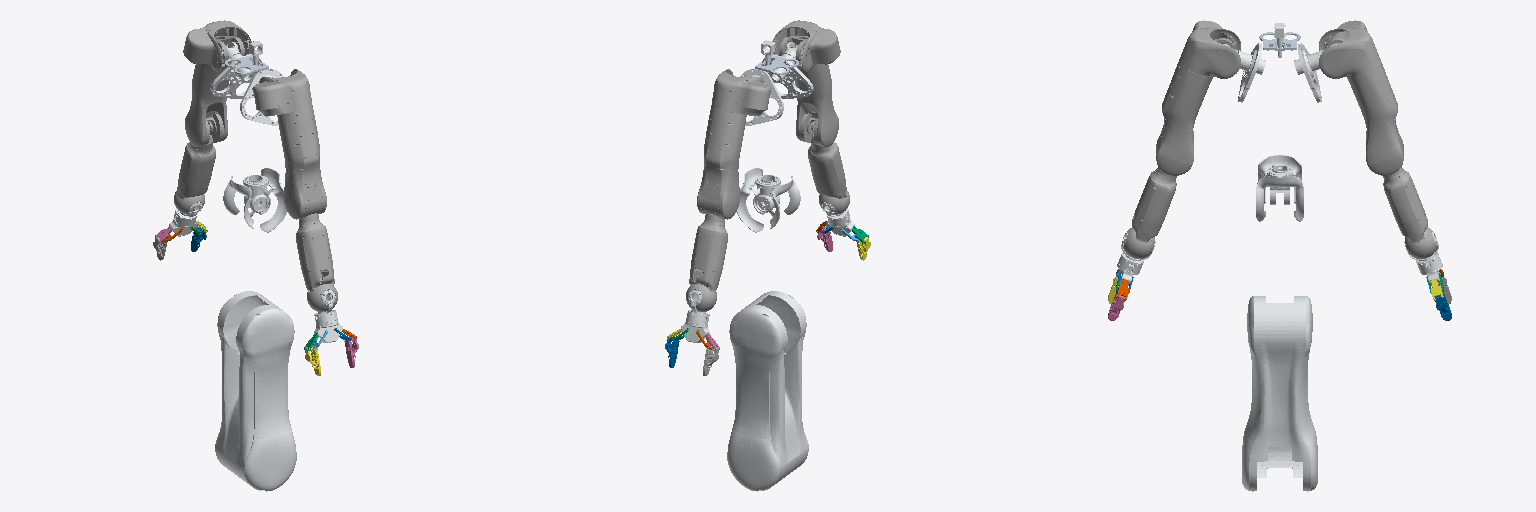
--- Facts derived from the render (not from the file) ---
Views: 3 orthographic renders of the robot side by side, from view 1: azimuth 30°, elevation 25°; view 2: azimuth 150°, elevation 25°; view 3: azimuth 270°, elevation 25°.
Robot: astribot_whole_body — 39 links, 38 joints (32 revolute, 6 fixed); root link astribot_torso_base; default pose: every joint at zero.
Links seen in each view (by area): view 1: astribot_torso_link_1, astribot_arm_right_link_3, astribot_arm_right_link_5, astribot_arm_left_link_3, astribot_torso_link_3, astribot_arm_left_link_2, astribot_arm_right_link_2, astribot_arm_left_link_5, astribot_arm_right_base_link, astribot_arm_left_base_link, astribot_gripper_right_base; view 2: astribot_torso_link_1, astribot_arm_left_link_3, astribot_arm_left_link_5, astribot_arm_right_link_3, astribot_torso_link_3, astribot_arm_right_link_2, astribot_arm_left_link_2, astribot_arm_right_link_5, astribot_arm_left_base_link, astribot_arm_right_base_link, astribot_gripper_left_base; view 3: astribot_torso_link_1, astribot_arm_left_link_3, astribot_arm_right_link_3, astribot_arm_left_link_2, astribot_arm_right_link_2, astribot_arm_left_link_5, astribot_arm_right_link_5, astribot_torso_link_3, astribot_arm_left_base_link, astribot_arm_right_base_link.
Boxes of the visible links, bbox=[...] form: astribot_torso_link_1: bbox=[215, 291, 296, 491]; astribot_arm_right_link_3: bbox=[277, 107, 326, 219]; astribot_arm_right_link_5: bbox=[296, 219, 337, 310]; astribot_arm_left_link_3: bbox=[185, 64, 229, 146]; astribot_torso_link_3: bbox=[223, 168, 286, 232]; astribot_arm_left_link_2: bbox=[183, 20, 251, 71]; astribot_arm_right_link_2: bbox=[253, 69, 312, 115]; astribot_arm_left_link_5: bbox=[174, 142, 215, 213]; astribot_arm_right_base_link: bbox=[240, 69, 283, 125]; astribot_arm_left_base_link: bbox=[210, 54, 261, 98]; astribot_gripper_right_base: bbox=[314, 310, 342, 342]; astribot_torso_link_1: bbox=[727, 291, 808, 491]; astribot_arm_left_link_3: bbox=[697, 107, 746, 219]; astribot_arm_left_link_5: bbox=[686, 219, 727, 310]; astribot_arm_right_link_3: bbox=[794, 64, 838, 146]; astribot_torso_link_3: bbox=[737, 168, 800, 232]; astribot_arm_right_link_2: bbox=[772, 20, 840, 71]; astribot_arm_left_link_2: bbox=[711, 69, 770, 115]; astribot_arm_right_link_5: bbox=[808, 142, 849, 213]; astribot_arm_left_base_link: bbox=[740, 69, 783, 125]; astribot_arm_right_base_link: bbox=[762, 54, 813, 98]; astribot_gripper_left_base: bbox=[681, 310, 709, 342]; astribot_torso_link_1: bbox=[1242, 296, 1317, 491]; astribot_arm_left_link_3: bbox=[1346, 60, 1403, 175]; astribot_arm_right_link_3: bbox=[1156, 60, 1213, 175]; astribot_arm_left_link_2: bbox=[1319, 20, 1380, 78]; astribot_arm_right_link_2: bbox=[1179, 20, 1240, 78]; astribot_arm_left_link_5: bbox=[1383, 169, 1434, 258]; astribot_arm_right_link_5: bbox=[1125, 169, 1176, 258]; astribot_torso_link_3: bbox=[1256, 155, 1303, 221]; astribot_arm_left_base_link: bbox=[1298, 43, 1321, 102]; astribot_arm_right_base_link: bbox=[1238, 43, 1261, 102].
Bounding box of the posed robot: 0.1943 × 0.8993 × 1.34 m (x, y, z).
Meshes: 25 distinct files referenced, 34 mesh visuals loaded (21 binary STL); not drawn: 4 (reference not matched to a file when rendering).

robot.urdf — astribot_whole_body:
<?xml version="1.0" ?>
<!-- =================================================================================== -->
<!-- |    This document was autogenerated by xacro from astribot_s1_whole_body_without_wheel.xacro | -->
<!-- |    EDITING THIS FILE BY HAND IS NOT RECOMMENDED                                 | -->
<!-- =================================================================================== -->
<!-- run: xacro astribot_s1_whole_body.xacro -o astribot_s1_whole_body.urdf to generate the following .urdf file -->
<robot name="astribot_whole_body">
  <link name="astribot_torso_base">
    <inertial>
      <origin rpy="0 0 0" xyz="-0.062784 0.007017 0.035375"/>
      <mass value="39.24781"/>
      <inertia ixx="1.071997" ixy="0.015889" ixz="-0.058447" iyy="1.218431" iyz="-0.002015" izz="1.489411"/>
    </inertial>
    <visual>
      <origin rpy="0 0 0" xyz="0 0 0"/>
      <geometry>
        <mesh filename="meshes/s1_torso/astribot_torso_base_link.STL"/>
      </geometry>
      <material name="">
        <color rgba="0.79216 0.81961 0.93333 1"/>
      </material>
    </visual>
    <collision>
      <origin rpy="0 0 0" xyz="0 0 -0.05"/>
      <geometry>
        <cylinder length="0.1" radius="0.3"/>
      </geometry>
    </collision>
  </link>
  <link name="astribot_torso_link_1">
    <inertial>
      <origin rpy="0 0 0" xyz="-0.15249 0.00021066 -0.0033476"/>
      <mass value="7.3766"/>
      <inertia ixx="0.028834" ixy="-0.0052759" ixz="0.00010767" iyy="0.1483" iyz="1.1652E-05" izz="0.14268"/>
    </inertial>
    <visual>
      <origin rpy="0 0 0" xyz="0 0 0"/>
      <geometry>
        <mesh filename="meshes/s1_torso/astribot_torso_link_1.STL"/>
      </geometry>
      <material name="">
        <color rgba="0.89804 0.91765 0.92941 1"/>
      </material>
    </visual>
    <collision>
      <origin rpy="0 1.57 0" xyz="-0.15 0 0"/>
      <geometry>
        <cylinder length="0.3" radius="0.1"/>
      </geometry>
    </collision>
  </link>
  <joint name="astribot_torso_joint_1" type="revolute">
    <origin rpy="-1.5708 1.5708 0" xyz="0 0 0.12"/>
    <parent link="astribot_torso_base"/>
    <child link="astribot_torso_link_1"/>
    <axis xyz="0 0 1"/>
    <limit effort="100" lower="-0.04" upper="1.3" velocity="1.8"/>
  </joint>
  <link name="astribot_torso_link_2">
    <inertial>
      <origin rpy="0 0 0" xyz="-0.22214 0.028873 0.00059024"/>
      <mass value="5.6183"/>
      <inertia ixx="0.0082545" ixy="0.0011523" ixz="0.00035614" iyy="0.012677" iyz="-5.8287E-05" izz="0.017512"/>
    </inertial>
    <visual>
      <origin rpy="0 0 0" xyz="0 0 0"/>
      <geometry>
        <mesh filename="meshes/s1_torso/astribot_torso_link_2.STL"/>
      </geometry>
      <material name="">
        <color rgba="0.89804 0.91765 0.92941 1"/>
      </material>
    </visual>
    <collision>
      <origin rpy="0 1.57 -0.25" xyz="-0.15 0.03 0"/>
      <geometry>
        <cylinder length="0.3" radius="0.1"/>
      </geometry>
    </collision>
  </link>
  <joint name="astribot_torso_joint_2" type="revolute">
    <origin rpy="0 0 0" xyz="-0.38 0 0"/>
    <parent link="astribot_torso_link_1"/>
    <child link="astribot_torso_link_2"/>
    <axis xyz="0 0 1"/>
    <limit effort="100" lower="-2.3" upper="0.06" velocity="1.8"/>
  </joint>
  <link name="astribot_torso_link_3">
    <inertial>
      <origin rpy="0 0 0" xyz="-0.017519 0.00059523 0.00025821"/>
      <mass value="0.49013"/>
      <inertia ixx="0.00022212" ixy="-2.6767E-07" ixz="4.3987E-07" iyy="0.00036522" iyz="3.8834E-07" izz="0.00038039"/>
    </inertial>
    <visual>
      <origin rpy="0 0 0" xyz="0 0 0"/>
      <geometry>
        <mesh filename="meshes/s1_torso/astribot_torso_link_3.STL"/>
      </geometry>
      <material name="">
        <color rgba="0.89804 0.91765 0.92941 1"/>
      </material>
    </visual>
    <collision>
      <origin rpy="0 1.57 0" xyz="-0.18 0.01 0"/>
      <geometry>
        <cylinder length="0.35" radius="0.09"/>
      </geometry>
    </collision>
  </link>
  <joint name="astribot_torso_joint_3" type="revolute">
    <origin rpy="0 0 0" xyz="-0.390 0 0"/>
    <parent link="astribot_torso_link_2"/>
    <child link="astribot_torso_link_3"/>
    <axis xyz="0 0 1"/>
    <limit effort="100" lower="-0.4" upper="2.3" velocity="1.8"/>
  </joint>
  <link name="astribot_torso_link_4">
    <inertial>
      <origin rpy="0 0 0" xyz="0.00476227191516749 -4.56966810241128E-05 0.242912573510671"/>
      <mass value="3.55695635704638"/>
      <inertia ixx="0.0165768322563514" ixy="-9.94098112646385E-06" ixz="-0.000100011483384926" iyy="0.014904355097835" iyz="9.86752047032885E-07" izz="0.0110629318711333"/>
    </inertial>
    <visual>
      <origin rpy="0 0 0" xyz="0 0 0"/>
      <geometry>
        <mesh filename="meshes/s1_torso/astribot_torso_link_4.STL"/>
      </geometry>
      <material name="">
        <color rgba="0.898039215686275 0.917647058823529 0.929411764705882 1"/>
      </material>
    </visual>
  </link>
  <joint name="astribot_torso_joint_4" type="revolute">
    <origin rpy="1.5708 0 -1.5708" xyz="0 0 0"/>
    <parent link="astribot_torso_link_3"/>
    <child link="astribot_torso_link_4"/>
    <axis xyz="0 0 1"/>
    <limit effort="100" lower="-1.2" upper="1.2" velocity="1.8"/>
  </joint>

  <link name="astribot_torso_end_effector">
    <inertial>
      <origin rpy="0 0 0" xyz="0 0 0"/>
      <mass value="0"/>
      <inertia ixx="0" ixy="0" ixz="0" iyy="0" iyz="0" izz="0"/>
    </inertial>
  </link>
  <joint name="astribot_torso_end_effector_fixed_joint" type="fixed">
    <origin rpy="0.0 0.0 0.0" xyz="0 0 0.34475"/>
    <parent link="astribot_torso_link_4"/>
    <child link="astribot_torso_end_effector"/>
  </joint>
  
  <link name="astribot_head_base_link">
    <inertial>
      <origin rpy="0 0 0" xyz="-0.02816247 -0.00023176 -0.05211965"/>
      <mass value="0.39541440"/>
      <inertia ixx="0.00036025" ixy="-0.00003505" ixz="0.00004865" iyy="0.00049377" iyz="0.00000243" izz="0.00074441"/>
    </inertial>
    <visual>
      <origin rpy="0 0 0" xyz="0 0 0"/>
      <geometry>
        <mesh filename="meshes/s1_head/astribot_head_base_link.STL"/>
      </geometry>
      <material name="">
        <color rgba="0.807843137254902 0.843137254901961 0.905882352941176 1"/>
      </material>
    </visual>
  </link>
  <link name="astribot_head_link_1">
    <inertial>
      <origin rpy="0 0 0" xyz="0.00003191 -0.00038566 -0.02579910"/>
      <mass value="0.13910581"/>
      <inertia ixx="0.00004567" ixy="0.00000003" ixz="0.00000004" iyy="0.00004789" iyz="-0.00000091" izz="0.00003779"/>
    </inertial>
    <visual>
      <origin rpy="0 0 0" xyz="0 0 0"/>
      <geometry>
        <mesh filename="meshes/s1_head/astribot_head_link_1.STL"/>
      </geometry>
      <material name="">
        <color rgba="0.898039215686275 0.917647058823529 0.929411764705882 1"/>
      </material>
    </visual>
  </link>
  <joint name="astribot_head_joint_1" type="revolute">
    <origin rpy="0 0 0" xyz="0 0 0"/>
    <parent link="astribot_head_base_link"/>
    <child link="astribot_head_link_1"/>
    <axis xyz="0 0 1"/>
    <limit effort="100" lower="-1.57" upper="1.57" velocity="4.0"/>
  </joint>
  <link name="astribot_head_link_2">
    <inertial>
      <origin rpy="0 0 0" xyz="0.00705824 -0.14472601 -0.00061724"/>
      <mass value="0.97012447"/>
      <inertia ixx="0.00555660" ixy="-0.00041600" ixz="-0.00000036" iyy="0.00151908" iyz="-0.00012043" izz="0.00544493"/>
    </inertial>
    <visual>
      <origin rpy="0 0 0" xyz="0 0 0"/>
      <geometry>
        <mesh filename="meshes/s1_head/astribot_head_link_2.STL"/>
      </geometry>
      <material name="">
        <color rgba="0.807843137254902 0.843137254901961 0.905882352941176 1"/>
      </material>
    </visual>
    <collision>
      <origin rpy="0 0 0" xyz="0 -0.15 0"/>
      <geometry>
        <sphere radius="0.11"/>
      </geometry>
    </collision>
  </link>
  <joint name="astribot_head_joint_2" type="revolute">
    <origin rpy="-1.5708 0 0" xyz="0 0 0"/>
    <parent link="astribot_head_link_1"/>
    <child link="astribot_head_link_2"/>
    <axis xyz="0 0 1"/>
    <limit effort="100" lower="-1.22" upper="1.22" velocity="4.0"/>
  </joint>


  <link name="astribot_arm_left_base_link">
    <inertial>
      <origin rpy="0 0 0" xyz="-0.04309067 -0.01849796 -0.01384838"/>
      <mass value="2.22887320"/>
      <inertia ixx="0.00386389" ixy="-0.00050396" ixz="0.00025566" iyy="0.00306042" iyz="0.00019224" izz="0.00570294"/>
    </inertial>
    <visual>
      <origin rpy="0 0 0" xyz="0 0 0"/>
      <geometry>
        <mesh filename="meshes/s1_arm/astribot_arm_left_base_link.STL"/>
      </geometry>
      <material name="">
        <color rgba="0.898039215686275 0.917647058823529 0.929411764705882 1"/>
      </material>
    </visual>
  </link>
  <link name="astribot_arm_left_link_1">
    <inertial>
      <origin rpy="0 0 0" xyz="0.00012026 0.00047499 -0.05682561"/>
      <mass value="0.59936716"/>
      <inertia ixx="0.00064791" ixy="0.00000149" ixz="0.00000133" iyy="0.00065264" iyz="0.00000160" izz="0.00050137"/>
    </inertial>
    <visual>
      <origin rpy="0 0 0" xyz="0 0 0"/>
      <geometry>
        <mesh filename="meshes/s1_arm/astribot_arm_link_1.STL"/>
      </geometry>
      <material name="">
        <color rgba="0.898039215686275 0.917647058823529 0.929411764705882 1"/>
      </material>
    </visual>
  </link>
  <joint name="astribot_arm_left_joint_1" type="revolute">
    <origin rpy="0 0 0" xyz="0 0 0.091"/>
    <parent link="astribot_arm_left_base_link"/>
    <child link="astribot_arm_left_link_1"/>
    <axis xyz="0 0 1"/>
    <limit effort="265" lower="-3.1" upper="3.1" velocity="8.4"/>
  </joint>
  <link name="astribot_arm_left_link_2">
    <inertial>
      <origin rpy="0 0 0" xyz="-0.00396228 0.03490708 0.04270156"/>
      <mass value="1.43694657"/>
      <inertia ixx="0.00360751" ixy="-0.00009193" ixz="0.00007764" iyy="0.00283747" iyz="0.00054945" izz="0.00172927"/>
    </inertial>
    <visual>
      <origin rpy="0 0 0" xyz="0 0 0"/>
      <geometry>
        <mesh filename="meshes/s1_arm/astribot_arm_left_link_2.STL"/>
      </geometry>
      <material name="">
        <color rgba="0.698039215686274 0.698039215686274 0.698039215686274 1"/>
      </material>
    </visual>
  </link>
  <joint name="astribot_arm_left_joint_2" type="revolute">
    <origin rpy="1.5708 0 0" xyz="0 0 0"/>
    <parent link="astribot_arm_left_link_1"/>
    <child link="astribot_arm_left_link_2"/>
    <axis xyz="0 0 1"/>
    <limit effort="265" lower="-1.53" upper="0.46" velocity="8.4"/>
  </joint>
  <link name="astribot_arm_left_link_3">
    <inertial>
      <origin rpy="0 0 0" xyz="0.00531263 0.00020707 0.16136713"/>
      <mass value="2.0926399"/>
      <inertia ixx="0.01752179" ixy="2.336e-05" ixz="0.00144018" iyy="0.01784671" iyz="-3.027e-05" izz="0.0021843"/>
    </inertial>
    <visual>
      <origin rpy="0 0 0" xyz="0 0 0"/>
      <geometry>
        <mesh filename="meshes/s1_arm/astribot_arm_link_3.STL"/>
      </geometry>
      <material name="">
        <color rgba="0.698039215686274 0.698039215686274 0.698039215686274 1"/>
      </material>
    </visual>
    <collision>
      <origin rpy="0 0 0" xyz="0 0 0.15"/>
      <geometry>
        <cylinder length="0.18" radius="0.05"/>
      </geometry>
    </collision>
  </link>
  <joint name="astribot_arm_left_joint_3" type="revolute">
    <origin rpy="1.5708 0 -1.5708" xyz="0 0.05 0"/>
    <parent link="astribot_arm_left_link_2"/>
    <child link="astribot_arm_left_link_3"/>
    <axis xyz="0 0 1"/>
    <limit effort="132" lower="-3.1" upper="3.1" velocity="8.4"/>
  </joint>
  <link name="astribot_arm_left_link_4">
    <inertial>
      <origin rpy="0 0 0" xyz="0.00017294 -0.01269315 0.00196140"/>
      <mass value="0.36587933"/>
      <inertia ixx="0.00047693" ixy="0.00000635" ixz=" 0.00000135" iyy="0.00036801" iyz="0.00000705" izz="0.00050082"/>
    </inertial>
    <visual>
      <origin rpy="0 0 0" xyz="0 0 0"/>
      <geometry>
        <mesh filename="meshes/s1_arm/astribot_arm_link_4.STL"/>
      </geometry>
      <material name="">
        <color rgba="0.698039215686274 0.698039215686274 0.698039215686274 1"/>
      </material>
    </visual>
    <collision>
      <origin rpy="0 0 0" xyz="0 0 0"/>
      <geometry>
        <sphere radius="0.06"/>
      </geometry>
    </collision>
  </link>
  <joint name="astribot_arm_left_joint_4" type="revolute">
    <origin rpy="-1.5708 0 0" xyz="0.03 0 0.309"/>
    <parent link="astribot_arm_left_link_3"/>
    <child link="astribot_arm_left_link_4"/>
    <axis xyz="0 0 1"/>
    <limit effort="142" lower="-0.06" upper="2.61" velocity="15"/>
  </joint>
  <link name="astribot_arm_left_link_5">
    <inertial>
      <origin rpy="0 0 0" xyz="-0.00032037 -0.00015185 0.15370447"/>
      <mass value="1.24085064"/>
      <inertia ixx="0.00454092" ixy="1.58e-06" ixz="-5.91e-06" iyy="0.00438922" iyz="-4.927e-05" izz="0.00079442"/>
    </inertial>
    <visual>
      <origin rpy="0 0 0" xyz="0 0 0"/>
      <geometry>
        <mesh filename="meshes/s1_arm/astribot_arm_link_5.STL"/>
      </geometry>
      <material name="">
        <color rgba="0.698039215686274 0.698039215686274 0.698039215686274 1"/>
      </material>
    </visual>
    <collision>
      <origin rpy="0 0 0" xyz="0 0 0.14"/>
      <geometry>
        <cylinder length="0.14" radius="0.05"/>
      </geometry>
    </collision>
  </link>
  <joint name="astribot_arm_left_joint_5" type="revolute">
    <origin rpy="1.5708 0 0" xyz="0 0 0"/>
    <parent link="astribot_arm_left_link_4"/>
    <child link="astribot_arm_left_link_5"/>
    <axis xyz="0 0 1"/>
    <limit effort="71" lower="-2.56" upper="2.56" velocity="20"/>
  </joint>
  <link name="astribot_arm_left_link_6">
    <inertial>
      <origin rpy="0 0 0" xyz="-0.00010311 0.00001218 0.00013181"/>
      <mass value="0.22465307"/>
      <inertia ixx="0.00016474" ixy="0.00000007" ixz="0.00000025" iyy="0.00015608" iyz="0.00000018" izz="0.00008555"/>
    </inertial>
    <visual>
      <origin rpy="0 0 0" xyz="0 0 0"/>
      <geometry>
        <mesh filename="meshes/s1_arm/astribot_arm_link_6.STL"/>
      </geometry>
      <material name="">
        <color rgba="0.698039215686274 0.698039215686274 0.698039215686274 1"/>
      </material>
    </visual>
  </link>
  <joint name="astribot_arm_left_joint_6" type="revolute">
    <origin rpy="-1.5708 0 0" xyz="0 0 0.277"/>
    <parent link="astribot_arm_left_link_5"/>
    <child link="astribot_arm_left_link_6"/>
    <axis xyz="0 0 1"/>
    <limit effort="20" lower="-0.76" upper="0.76" velocity="16.8"/>
  </joint>
  <link name="astribot_arm_left_link_7">
    <inertial>
      <origin rpy="0 0 0" xyz="4.333e-05 -0.00723447 -0.00362428"/>
      <mass value="0.12772019"/>
      <inertia ixx="0.00013672" ixy="1.6e-07" ixz="-2.4e-07" iyy="0.00010783" iyz="-3.35e-06" izz="5.858e-05"/>
    </inertial>
    <visual>
      <origin rpy="0 0 0" xyz="0 0 0"/>
      <geometry>
        <mesh filename="meshes/s1_arm/astribot_arm_link_7.STL"/>
      </geometry>
      <material name="">
        <color rgba="0.898039215686275 0.917647058823529 0.929411764705882 1"/>
      </material>
    </visual>
    <collision>
      <origin rpy="0 0 0" xyz="0.006 0 0"/>
      <geometry>
        <sphere radius="0.05"/>
      </geometry>
    </collision>
  </link>
  <joint name="astribot_arm_left_joint_7" type="revolute">
    <origin rpy="0 1.5708 0" xyz="0 0 0"/>
    <parent link="astribot_arm_left_link_6"/>
    <child link="astribot_arm_left_link_7"/>
    <axis xyz="0 0 1"/>
    <limit effort="20" lower="-1.53" upper="1.53" velocity="16.8"/>
  </joint>



   <!-- 创建夹爪基座 -->
    <link name="astribot_gripper_left_base">
        <inertial>
            <origin xyz="0.000286114278273852 5.46143913165315E-05 0.0313070801272036" rpy="0 0 0" />
            <mass value="0.187915151353017" />
            <inertia
              ixx="7.7083129306073E-05"
              ixy="-5.2914269679694E-08"
              ixz="-7.97668331424419E-07"
              iyy="9.20833968358638E-05"
              iyz="2.05531866691208E-06"
              izz="0.000110550450454867" />
        </inertial>
        <visual>
            <origin xyz="0 0 0" rpy="0 0 0"/>
            <geometry>
                <mesh filename="meshes/s1_gripper/astribot_gripper_base_link.STL"/>
            </geometry>
            <material name="">
                <color rgba="0.898039215686275 0.917647058823529 0.929411764705882 1"/>
            </material>
        </visual>
    </link>
    <joint name="astribot_gripper_left_arm_joint" type="fixed">
        <origin xyz="0 -0.045 0" rpy="1.5708 0 0"/>
        <parent link="astribot_arm_left_link_7"/>
        <child link="astribot_gripper_left_base"/>
    </joint>

    <!-- 创建夹爪左侧 L1 -->
    <link name="astribot_gripper_left_Link_L1">
        <inertial>
            <origin xyz="0.0238640864176069 9.47687805681264E-11 0.0229075443586857" rpy="0 0 0" />
            <mass value="0.0132773347208514" />
            <inertia
              ixx="4.28423784706423E-06"
              ixy="-3.1809828478112E-14"
              ixz="-1.80523452558963E-06"
              iyy="3.7385709458377E-06"
              iyz="-1.72714143575754E-14"
              izz="4.66371355874453E-06" />
        </inertial>
        <visual>
            <origin xyz="0 0 0" rpy="0 0 0"/>
            <geometry>
                <mesh filename="meshes/s1_gripper/astribot_gripper_L1_Link.STL"/>
            </geometry>
        </visual>
    </link>
    <joint name="astribot_gripper_left_joint_L1" type="revolute">
        <origin xyz="0.0145 0 0.0510999999999999" rpy="0 0 0" />
        <parent link="astribot_gripper_left_base"/>
        <child link="astribot_gripper_left_Link_L1"/>
        <axis xyz="0 1 0" />
        <limit lower="-1.57" upper="1.57" effort="1" velocity="1" />
        <disable_collisions>true</disable_collisions>
    </joint>

    <!-- 创建夹爪左侧 L2 -->
    <link name="astribot_gripper_left_Link_L2">
        <inertial>
            <origin xyz="0.0140847588556024 1.38103934445237E-10 0.0136360450679544" rpy="0 0 0" />
            <mass value="0.0225788543528282" />
            <inertia
              ixx="4.05677771144473E-06"
              ixy="9.09979590001103E-14"
              ixz="-3.87016503842647E-06"
              iyy="9.27580355823765E-06"
              iyz="2.24851503246122E-15"
              izz="7.45268797104849E-06" />
        </inertial>
        <visual>
            <origin xyz="0 0 0" rpy="0 0 0"/>
            <geometry>
                <mesh filename="meshes/s1_gripper/astribot_gripper_L2_Link.STL"/>
            </geometry>
        </visual>
    </link>
    <joint name="astribot_gripper_left_joint_L2" type="revolute">
        <origin xyz="0.0325 0 0.0510999999999999" rpy="0 0 0" />
        <parent link="astribot_gripper_left_base"/>
        <child link="astribot_gripper_left_Link_L2"/>
        <axis xyz="0 1 0"/>
        <limit lower="-1.57" upper="1.57" effort="1" velocity="1" />
        <disable_collisions>true</disable_collisions>
    </joint>

    <!-- 创建夹爪左侧 L11 -->
    <link name="astribot_gripper_left_Link_L11">
        <inertial>
            <origin xyz="0.00580213800883548 -8.25165165519234E-05 0.0308700387872591" rpy="0 0 0" />
            <mass value="0.048314774841657" />
            <inertia
              ixx="1.32981890600081E-05"
              ixy="-5.57022585371537E-10"
              ixz="7.4802436798051E-07"
              iyy="1.22071199015097E-05"
              iyz="-5.96543860568114E-08"
              izz="3.57131660356933E-06" />
    </inertial>
        <visual>
            <origin xyz="0 0 0" rpy="0 0 0"/>
            <geometry>
                <mesh filename="meshes/s1_gripper/astribot_gripper_L11_Link.STL"/>
            </geometry>
        </visual>
        <collision>
            <origin xyz="0 0 0" rpy="0 0 0"/>
            <geometry>
                <mesh filename="meshes/s1_gripper/astribot_gripper_L11_Link.STL"/>
            </geometry>
        </collision>
    </link>
    <joint name="astribot_gripper_left_joint_L11" type="revolute">
        <origin xyz="0.0412500000000001 0 0.036379080527138" rpy="0 0 0" />
        <parent link="astribot_gripper_left_Link_L1"/>
        <child link="astribot_gripper_left_Link_L11"/>
        <axis xyz="0 1 0"/>
        <limit effort="1" velocity="1" lower="-1.57" upper="1.57"/>
        <disable_collisions>true</disable_collisions>
    </joint>

    <!-- 创建夹爪右侧 R1 -->
    <link name="astribot_gripper_left_Link_R1">
        <inertial>
            <origin xyz="-0.0238640864176057 -9.47685705791467E-11 0.0229075443586915" rpy="0 0 0" />
            <mass value="0.0132773347208514" />
            <inertia
              ixx="4.28423784706424E-06"
              ixy="-3.18098256836165E-14"
              ixz="1.80523452558963E-06"
              iyy="3.7385709458377E-06"
              iyz="1.727141962837E-14"
              izz="4.66371355874451E-06" />
        </inertial>
        <visual>
            <origin xyz="0 0 0" rpy="0 0 0"/>
            <geometry>
                <mesh filename="meshes/s1_gripper/astribot_gripper_R1_Link.STL"/>
            </geometry>
        </visual>
    </link>
    <joint name="astribot_gripper_left_joint_R1" type="revolute">
        <origin xyz="-0.0144999999999999 0 0.0510999999999939" rpy="0 0 0" />
        <parent link="astribot_gripper_left_base"/>
        <child link="astribot_gripper_left_Link_R1"/>
        <axis xyz="0 1 0" />
        <limit lower="-1.57" upper="1.57" effort="1" velocity="1" />
        <disable_collisions>true</disable_collisions>
    </joint>

    <!-- 创建夹爪右侧 R2 -->
    <link name="astribot_gripper_left_Link_R2">
        <inertial>
            <origin xyz="-0.0140847588556023 -1.38096956088557E-10 0.0136360450679544" rpy="0 0 0" />
            <mass value="0.0225788543528282" />
            <inertia
              ixx="4.05677771144474E-06"
              ixy="9.09979616664103E-14"
              ixz="3.87016503842647E-06"
              iyy="9.27580355823765E-06"
              iyz="-2.24851632164595E-15"
              izz="7.45268797104847E-06" />
            
        </inertial>
        <visual>
            <origin xyz="0 0 0" rpy="0 0 0"/>
            <geometry>
                <mesh filename="meshes/s1_gripper/astribot_gripper_R2_Link.STL"/>
            </geometry>
        </visual>
    </link>
    <joint name="astribot_gripper_left_joint_R2" type="revolute">
        <origin xyz="-0.0325 0 0.0510999999999999" rpy="0 0 0" />
        <parent link="astribot_gripper_left_base"/>
        <child link="astribot_gripper_left_Link_R2"/>
        <axis xyz="0 1 0" />
        <limit lower="-1.57" upper="1.57" effort="1" velocity="1" />
        <disable_collisions>true</disable_collisions>
    </joint>

    <!-- 创建夹爪右侧 R11 -->
    <link name="astribot_gripper_left_Link_R11">
        <inertial>
            <origin xyz="-0.00580213801042903 8.25165349425033E-05 0.0308700387923378" rpy="0 0 0" />
            <mass value="0.048314774834573" />
            <inertia
              ixx="1.32981890422821E-05"
              ixy="-5.57024612407707E-10"
              ixz="-7.48024369000206E-07"
              iyy="1.22071198991499E-05"
              iyz="5.96543919268235E-08"
              izz="3.57131658810875E-06" />

        </inertial>
        <visual>
            <origin xyz="0 0 0" rpy="0 0 0"/>
            <geometry>
                <mesh filename="meshes/s1_gripper/astribot_gripper_R11_Link.STL"/>
            </geometry>
        </visual>
        <collision>
            <origin xyz="0 0 0" rpy="0 0 0"/>
            <geometry>
                <mesh filename="meshes/s1_gripper/astribot_gripper_R11_Link.STL"/>
            </geometry>
        </collision>
    </link>
    <joint name="astribot_gripper_left_joint_R11" type="revolute">
        <origin xyz="-0.0412499999999999 0 0.0363790805271382" rpy="0 0 0" />
        <parent link="astribot_gripper_left_Link_R1" />
        <child link="astribot_gripper_left_Link_R11" />
        <axis xyz="0 1 0" /> 
        <limit lower="-1.57" upper="1.57" effort="1" velocity="1" />
        <!-- <mimic joint="astribot_gripper_left_joint_L11" multiplier="-1.0" offset="0.0" /> -->
        <disable_collisions>true</disable_collisions>
    </joint>





  <link name="astribot_arm_right_base_link">
    <inertial>
      <origin rpy="0 0 0" xyz="-0.04450932 0.01988693 0.00162589"/>
      <mass value="2.22887320"/>
      <inertia ixx="0.00396811" ixy="0.00041290" ixz="-0.00033387" iyy="0.00304615" iyz="-0.00021572" izz="0.00574641"/>
    </inertial>
    <visual>
      <origin rpy="0 0 0" xyz="0 0 0"/>
      <geometry>
        <mesh filename="meshes/s1_arm/astribot_arm_right_base_link.STL"/>
      </geometry>
      <material name="">
        <color rgba="0.898039215686275 0.917647058823529 0.929411764705882 1"/>
      </material>
    </visual>
  </link>
  <link name="astribot_arm_right_link_1">
    <inertial>
      <origin rpy="0 0 0" xyz="0.00012026 0.00047499 -0.05682561"/>
      <mass value="0.59936716"/>
      <inertia ixx="0.00064791" ixy="0.00000149" ixz="0.00000133" iyy="0.00065264" iyz="0.00000160" izz="0.00050137"/>
    </inertial>
    <visual>
      <origin rpy="0 0 0" xyz="0 0 0"/>
      <geometry>
        <mesh filename="meshes/s1_arm/astribot_arm_link_1.STL"/>
      </geometry>
      <material name="">
        <color rgba="0.898039215686275 0.917647058823529 0.929411764705882 1"/>
      </material>
    </visual>
  </link>
  <joint name="astribot_arm_right_joint_1" type="revolute">
    <origin rpy="0 0 0" xyz="0 0 0.091"/>
    <parent link="astribot_arm_right_base_link"/>
    <child link="astribot_arm_right_link_1"/>
    <axis xyz="0 0 1"/>
    <limit effort="265" lower="-3.1" upper="3.1" velocity="8.4"/>
  </joint>
  <link name="astribot_arm_right_link_2">
    <inertial>
      <origin rpy="0 0 0" xyz="-0.00384709 0.03502105 -0.04050705"/>
      <mass value="1.45811037"/>
      <inertia ixx="0.00394196" ixy="-8.846e-05" ixz="-3.742e-05" iyy="0.00316298" iyz="-0.0007079" izz="0.00177295"/>
    </inertial>
    <visual>
      <origin rpy="0 0 0" xyz="0 0 0"/>
      <geometry>
        <mesh filename="meshes/s1_arm/astribot_arm_right_link_2.STL"/>
      </geometry>
      <material name="">
        <color rgba="0.698039215686274 0.698039215686274 0.698039215686274 1"/>
      </material>
    </visual>
  </link>
  <joint name="astribot_arm_right_joint_2" type="revolute">
    <origin rpy="1.5708 0 0" xyz="0 0 0"/>
    <parent link="astribot_arm_right_link_1"/>
    <child link="astribot_arm_right_link_2"/>
    <axis xyz="0 0 1"/>
    <limit effort="265" lower="-1.53" upper="0.46" velocity="8.4"/>
  </joint>
  <link name="astribot_arm_right_link_3">
    <inertial>
      <origin rpy="0 0 0" xyz="0.00531263 0.00020707 0.16136713"/>
      <mass value="2.0926399"/>
      <inertia ixx="0.01752179" ixy="2.336e-05" ixz="0.00144018" iyy="0.01784671" iyz="-3.027e-05" izz="0.0021843"/>
    </inertial>
    <visual>
      <origin rpy="0 0 0" xyz="0 0 0"/>
      <geometry>
        <mesh filename="meshes/s1_arm/astribot_arm_link_3.STL"/>
      </geometry>
      <material name="">
        <color rgba="0.698039215686274 0.698039215686274 0.698039215686274 1"/>
      </material>
    </visual>
    <collision>
      <origin rpy="0 0 0" xyz="0 0 0.15"/>
      <geometry>
        <cylinder length="0.18" radius="0.05"/>
      </geometry>
    </collision>
  </link>
  <joint name="astribot_arm_right_joint_3" type="revolute">
    <origin rpy="1.5708 0 -1.5708" xyz="0 0.05 0"/>
    <parent link="astribot_arm_right_link_2"/>
    <child link="astribot_arm_right_link_3"/>
    <axis xyz="0 0 1"/>
    <limit effort="132" lower="-3.1" upper="3.1" velocity="8.4"/>
  </joint>
  <link name="astribot_arm_right_link_4">
    <inertial>
      <origin rpy="0 0 0" xyz="0.00017294 -0.01269315 0.00196140"/>
      <mass value="0.36587933"/>
      <inertia ixx="0.00047693" ixy="0.00000635" ixz=" 0.00000135" iyy="0.00036801" iyz="0.00000705" izz="0.00050082"/>
    </inertial>
    <visual>
      <origin rpy="0 0 0" xyz="0 0 0"/>
      <geometry>
        <mesh filename="meshes/s1_arm/astribot_arm_link_4.STL"/>
      </geometry>
      <material name="">
        <color rgba="0.698039215686274 0.698039215686274 0.698039215686274 1"/>
      </material>
    </visual>
    <collision>
      <origin rpy="0 0 0" xyz="0 0 0"/>
      <geometry>
        <sphere radius="0.06"/>
      </geometry>
    </collision>
  </link>
  <joint name="astribot_arm_right_joint_4" type="revolute">
    <origin rpy="-1.5708 0 0" xyz="0.03 0 0.309"/>
    <parent link="astribot_arm_right_link_3"/>
    <child link="astribot_arm_right_link_4"/>
    <axis xyz="0 0 1"/>
    <limit effort="142" lower="-0.06" upper="2.61" velocity="15"/>
  </joint>
  <link name="astribot_arm_right_link_5">
    <inertial>
      <origin rpy="0 0 0" xyz="-0.00032037 -0.00015185 0.15370447"/>
      <mass value="1.24085064"/>
      <inertia ixx="0.00454092" ixy="1.58e-06" ixz="-5.91e-06" iyy="0.00438922" iyz="-4.927e-05" izz="0.00079442"/>
    </inertial>
    <visual>
      <origin rpy="0 0 0" xyz="0 0 0"/>
      <geometry>
        <mesh filename="meshes/s1_arm/astribot_arm_link_5.STL"/>
      </geometry>
      <material name="">
        <color rgba="0.698039215686274 0.698039215686274 0.698039215686274 1"/>
      </material>
    </visual>
    <collision>
      <origin rpy="0 0 0" xyz="0 0 0.14"/>
      <geometry>
        <cylinder length="0.14" radius="0.05"/>
      </geometry>
    </collision>
  </link>
  <joint name="astribot_arm_right_joint_5" type="revolute">
    <origin rpy="1.5708 0 0" xyz="0 0 0"/>
    <parent link="astribot_arm_right_link_4"/>
    <child link="astribot_arm_right_link_5"/>
    <axis xyz="0 0 1"/>
    <limit effort="71" lower="-2.56" upper="2.56" velocity="20"/>
  </joint>
  <link name="astribot_arm_right_link_6">
    <inertial>
      <origin rpy="0 0 0" xyz="-0.00010311 0.00001218 0.00013181"/>
      <mass value="0.22465307"/>
      <inertia ixx="0.00016474" ixy="0.00000007" ixz="0.00000025" iyy="0.00015608" iyz="0.00000018" izz="0.00008555"/>
    </inertial>
    <visual>
      <origin rpy="0 0 0" xyz="0 0 0"/>
      <geometry>
        <mesh filename="meshes/s1_arm/astribot_arm_link_6.STL"/>
      </geometry>
      <material name="">
        <color rgba="0.698039215686274 0.698039215686274 0.698039215686274 1"/>
      </material>
    </visual>
  </link>
  <joint name="astribot_arm_right_joint_6" type="revolute">
    <origin rpy="-1.5708 0 0" xyz="0 0 0.277"/>
    <parent link="astribot_arm_right_link_5"/>
    <child link="astribot_arm_right_link_6"/>
    <axis xyz="0 0 1"/>
    <limit effort="20" lower="-0.76" upper="0.76" velocity="16.8"/>
  </joint>
  <link name="astribot_arm_right_link_7">
    <inertial>
      <origin rpy="0 0 0" xyz="4.333e-05 -0.00723447 -0.00362428"/>
      <mass value="0.12772019"/>
      <inertia ixx="0.00013672" ixy="1.6e-07" ixz="-2.4e-07" iyy="0.00010783" iyz="-3.35e-06" izz="5.858e-05"/>
    </inertial>
    <visual>
      <origin rpy="0 0 0" xyz="0 0 0"/>
      <geometry>
        <mesh filename="meshes/s1_arm/astribot_arm_link_7.STL"/>
      </geometry>
      <material name="">
        <color rgba="0.898039215686275 0.917647058823529 0.929411764705882 1"/>
      </material>
    </visual>
    <collision>
      <origin rpy="0 0 0" xyz="0.006 0 0"/>
      <geometry>
        <sphere radius="0.05"/>
      </geometry>
    </collision>
  </link>
  <joint name="astribot_arm_right_joint_7" type="revolute">
    <origin rpy="0 1.5708 0" xyz="0 0 0"/>
    <parent link="astribot_arm_right_link_6"/>
    <child link="astribot_arm_right_link_7"/>
    <axis xyz="0 0 1"/>
    <limit effort="20" lower="-1.53" upper="1.53" velocity="16.8"/>
  </joint>
 
   <!-- 创建夹爪基座 -->
    <link name="astribot_gripper_right_base">
        <inertial>
            <origin xyz="0.000286114278273852 5.46143913165315E-05 0.0313070801272036" rpy="0 0 0" />
            <mass value="0.187915151353017" />
            <inertia
              ixx="7.7083129306073E-05"
              ixy="-5.2914269679694E-08"
              ixz="-7.97668331424419E-07"
              iyy="9.20833968358638E-05"
              iyz="2.05531866691208E-06"
              izz="0.000110550450454867" />
        </inertial>
        <visual>
            <origin xyz="0 0 0" rpy="0 0 0"/>
            <geometry>
                <mesh filename="meshes/s1_gripper/astribot_gripper_base_link.STL"/>
            </geometry>
            <material name="">
                <color rgba="0.898039215686275 0.917647058823529 0.929411764705882 1"/>
            </material>
        </visual>
    </link>
    <joint name="astribot_gripper_right_arm_joint" type="fixed">
        <origin xyz="0 -0.045 0" rpy="1.5708 0 0"/>
        <parent link="astribot_arm_right_link_7"/>
        <child link="astribot_gripper_right_base"/>
    </joint>

    <!-- 创建夹爪左侧 L1 -->
    <link name="astribot_gripper_right_Link_L1">
        <inertial>
            <origin xyz="0.0238640864176069 9.47687805681264E-11 0.0229075443586857" rpy="0 0 0" />
            <mass value="0.0132773347208514" />
            <inertia
              ixx="4.28423784706423E-06"
              ixy="-3.1809828478112E-14"
              ixz="-1.80523452558963E-06"
              iyy="3.7385709458377E-06"
              iyz="-1.72714143575754E-14"
              izz="4.66371355874453E-06" />
        </inertial>
        <visual>
            <origin xyz="0 0 0" rpy="0 0 0"/>
            <geometry>
                <mesh filename="meshes/s1_gripper/astribot_gripper_L1_Link.STL"/>
            </geometry>
        </visual>
    </link>
    <joint name="astribot_gripper_right_joint_L1" type="revolute">
        <origin xyz="0.0145 0 0.0510999999999999" rpy="0 0 0" />
        <parent link="astribot_gripper_right_base"/>
        <child link="astribot_gripper_right_Link_L1"/>
        <axis xyz="0 1 0" />
        <limit lower="-1.57" upper="1.57" effort="1" velocity="1" />
        <disable_collisions>true</disable_collisions>
    </joint>

    <!-- 创建夹爪左侧 L2 -->
    <link name="astribot_gripper_right_Link_L2">
        <inertial>
            <origin xyz="0.0140847588556024 1.38103934445237E-10 0.0136360450679544" rpy="0 0 0" />
            <mass value="0.0225788543528282" />
            <inertia
              ixx="4.05677771144473E-06"
              ixy="9.09979590001103E-14"
              ixz="-3.87016503842647E-06"
              iyy="9.27580355823765E-06"
              iyz="2.24851503246122E-15"
              izz="7.45268797104849E-06" />
        </inertial>
        <visual>
            <origin xyz="0 0 0" rpy="0 0 0"/>
            <geometry>
                <mesh filename="meshes/s1_gripper/astribot_gripper_L2_Link.STL"/>
            </geometry>
        </visual>
    </link>
    <joint name="astribot_gripper_right_joint_L2" type="revolute">
        <origin xyz="0.0325 0 0.0510999999999999" rpy="0 0 0" />
        <parent link="astribot_gripper_right_base"/>
        <child link="astribot_gripper_right_Link_L2"/>
        <axis xyz="0 1 0"/>
        <limit lower="-1.57" upper="1.57" effort="1" velocity="1" />
        <disable_collisions>true</disable_collisions>
    </joint>

    <!-- 创建夹爪左侧 L11 -->
    <link name="astribot_gripper_right_Link_L11">
        <inertial>
            <origin xyz="0.00580213800883548 -8.25165165519234E-05 0.0308700387872591" rpy="0 0 0" />
            <mass value="0.048314774841657" />
            <inertia
              ixx="1.32981890600081E-05"
              ixy="-5.57022585371537E-10"
              ixz="7.4802436798051E-07"
              iyy="1.22071199015097E-05"
              iyz="-5.96543860568114E-08"
              izz="3.57131660356933E-06" />
    </inertial>
        <visual>
            <origin xyz="0 0 0" rpy="0 0 0"/>
            <geometry>
                <mesh filename="meshes/s1_gripper/astribot_gripper_L11_Link.STL"/>
            </geometry>
        </visual>
        <collision>
            <origin xyz="0 0 0" rpy="0 0 0"/>
            <geometry>
                <mesh filename="meshes/s1_gripper/astribot_gripper_L11_Link.STL"/>
            </geometry>
        </collision>
    </link>
    <joint name="astribot_gripper_right_joint_L11" type="revolute">
        <origin xyz="0.0412500000000001 0 0.036379080527138" rpy="0 0 0" />
        <parent link="astribot_gripper_right_Link_L1"/>
        <child link="astribot_gripper_right_Link_L11"/>
        <axis xyz="0 1 0"/>
        <limit effort="1" velocity="1" lower="-1.57" upper="1.57"/>
        <disable_collisions>true</disable_collisions>
    </joint>

    <!-- 创建夹爪右侧 R1 -->
    <link name="astribot_gripper_right_Link_R1">
        <inertial>
            <origin xyz="-0.0238640864176057 -9.47685705791467E-11 0.0229075443586915" rpy="0 0 0" />
            <mass value="0.0132773347208514" />
            <inertia
              ixx="4.28423784706424E-06"
              ixy="-3.18098256836165E-14"
              ixz="1.80523452558963E-06"
              iyy="3.7385709458377E-06"
              iyz="1.727141962837E-14"
              izz="4.66371355874451E-06" />
        </inertial>
        <visual>
            <origin xyz="0 0 0" rpy="0 0 0"/>
            <geometry>
                <mesh filename="meshes/s1_gripper/astribot_gripper_R1_Link.STL"/>
            </geometry>
        </visual>
    </link>
    <joint name="astribot_gripper_right_joint_R1" type="revolute">
        <origin xyz="-0.0144999999999999 0 0.0510999999999939" rpy="0 0 0" />
        <parent link="astribot_gripper_right_base"/>
        <child link="astribot_gripper_right_Link_R1"/>
        <axis xyz="0 1 0" />
        <limit lower="-1.57" upper="1.57" effort="1" velocity="1" />
        <disable_collisions>true</disable_collisions>
    </joint>

    <!-- 创建夹爪右侧 R2 -->
    <link name="astribot_gripper_right_Link_R2">
        <inertial>
            <origin xyz="-0.0140847588556023 -1.38096956088557E-10 0.0136360450679544" rpy="0 0 0" />
            <mass value="0.0225788543528282" />
            <inertia
              ixx="4.05677771144474E-06"
              ixy="9.09979616664103E-14"
              ixz="3.87016503842647E-06"
              iyy="9.27580355823765E-06"
              iyz="-2.24851632164595E-15"
              izz="7.45268797104847E-06" />
            
        </inertial>
        <visual>
            <origin xyz="0 0 0" rpy="0 0 0"/>
            <geometry>
                <mesh filename="meshes/s1_gripper/astribot_gripper_R2_Link.STL"/>
            </geometry>
        </visual>
    </link>
    <joint name="astribot_gripper_right_joint_R2" type="revolute">
        <origin xyz="-0.0325 0 0.0510999999999999" rpy="0 0 0" />
        <parent link="astribot_gripper_right_base"/>
        <child link="astribot_gripper_right_Link_R2"/>
        <axis xyz="0 1 0" />
        <limit lower="-1.57" upper="1.57" effort="1" velocity="1" />
        <disable_collisions>true</disable_collisions>
    </joint>

    <!-- 创建夹爪右侧 R11 -->
    <link name="astribot_gripper_right_Link_R11">
        <inertial>
            <origin xyz="-0.00580213801042903 8.25165349425033E-05 0.0308700387923378" rpy="0 0 0" />
            <mass value="0.048314774834573" />
            <inertia
              ixx="1.32981890422821E-05"
              ixy="-5.57024612407707E-10"
              ixz="-7.48024369000206E-07"
              iyy="1.22071198991499E-05"
              iyz="5.96543919268235E-08"
              izz="3.57131658810875E-06" />

        </inertial>
        <visual>
            <origin xyz="0 0 0" rpy="0 0 0"/>
            <geometry>
                <mesh filename="meshes/s1_gripper/astribot_gripper_R11_Link.STL"/>
            </geometry>
        </visual>
        <collision>
            <origin xyz="0 0 0" rpy="0 0 0"/>
            <geometry>
                <mesh filename="meshes/s1_gripper/astribot_gripper_R11_Link.STL"/>
            </geometry>
        </collision>
    </link>
    <joint name="astribot_gripper_right_joint_R11" type="revolute">
        <origin xyz="-0.0412499999999999 0 0.0363790805271382" rpy="0 0 0" />
        <parent link="astribot_gripper_right_Link_R1" />
        <child link="astribot_gripper_right_Link_R11" />
        <axis xyz="0 1 0" /> 
        <limit lower="-1.57" upper="1.57" effort="1" velocity="1" />
        <!-- <mimic joint="astribot_gripper_left_joint_L11" multiplier="-1.0" offset="0.0" /> -->
        <disable_collisions>true</disable_collisions>
    </joint>


  <joint name="astribot_head_fixed_joint" type="fixed">
    <parent link="astribot_torso_end_effector"/>
    <child link="astribot_head_base_link"/>
    <origin rpy="0 0 0" xyz="0 0 0.1229"/>
  </joint>
  <joint name="astribot_arm_left_base_fixed_joint" type="fixed">
    <parent link="astribot_torso_end_effector"/>
    <child link="astribot_arm_left_base_link"/>
    <origin rpy="0 -1.22173 -1.5707963" xyz="0 0.06449 0.02348"/>
  </joint>
  <joint name="astribot_arm_right_base_fixed_joint" type="fixed">
    <parent link="astribot_torso_end_effector"/>
    <child link="astribot_arm_right_base_link"/>
    <origin rpy="0 -1.22173 1.5707963" xyz="0 -0.06449 0.02348"/>
  </joint>
  
</robot>
